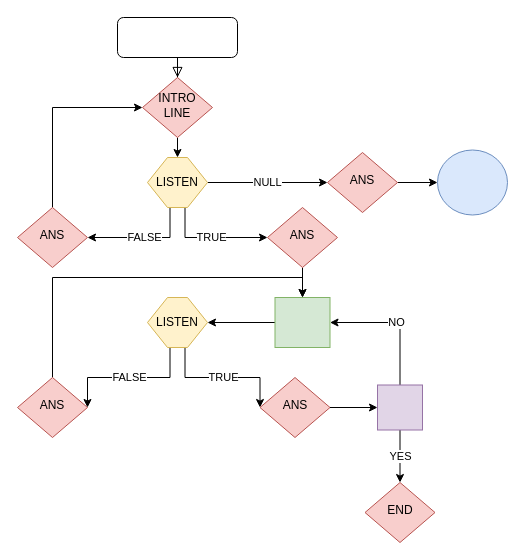
This 525x560 diagram has some shape labels left out. Each missing label, with the centre of its shape:
"ENTER SPACE" belongs at point 177,37.
"LAST QST?" belongs at point 399,407.
"QST" belongs at point 302,322.
"TOPICS" belongs at point 472,182.
